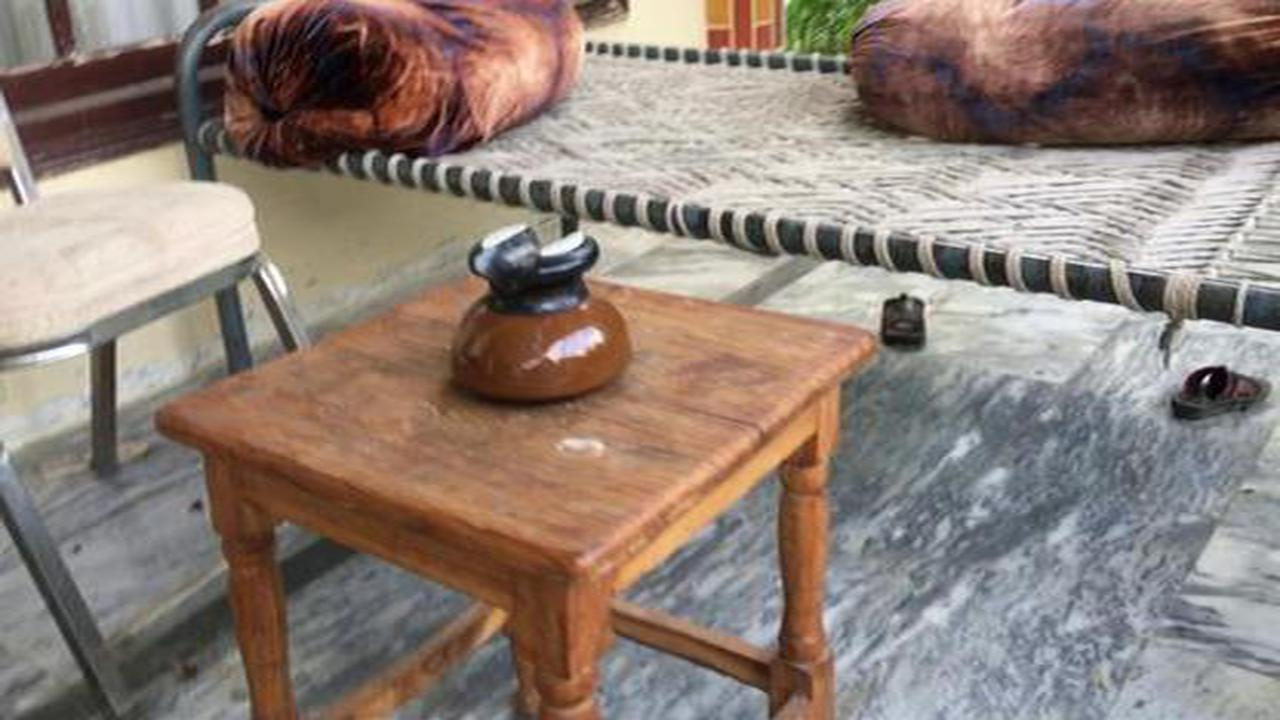insulator_pin: (434, 205, 641, 412)
